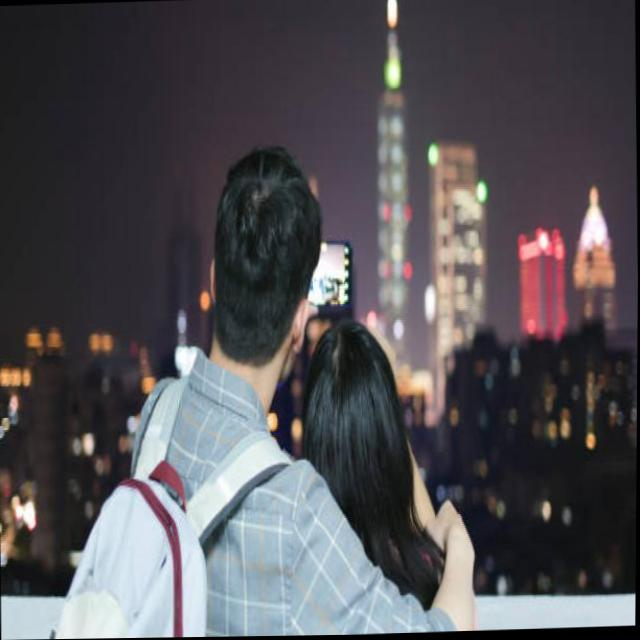no helmet: (203, 135, 324, 384), (301, 326, 415, 519)
